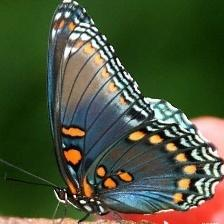butterfly: (48, 0, 224, 214)
